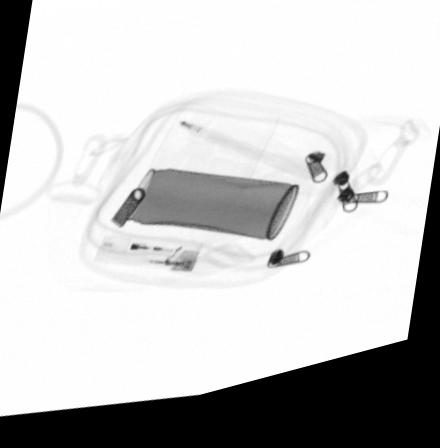Lighter: (91, 239, 204, 282)
